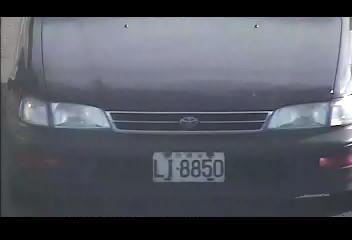plate: (150, 148, 227, 183)
